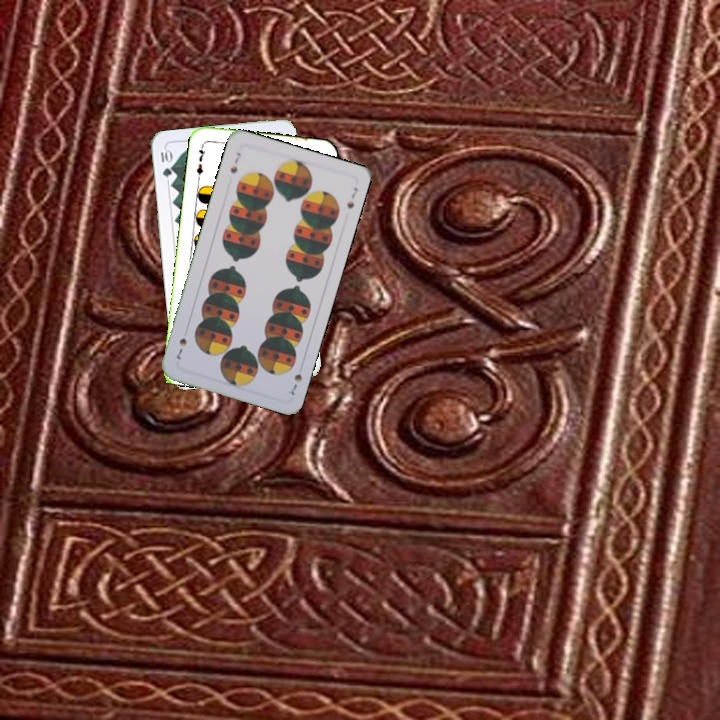E7: (193, 141, 208, 181)
G10: (156, 145, 175, 179)
S7: (284, 369, 305, 398), (226, 148, 243, 176)
